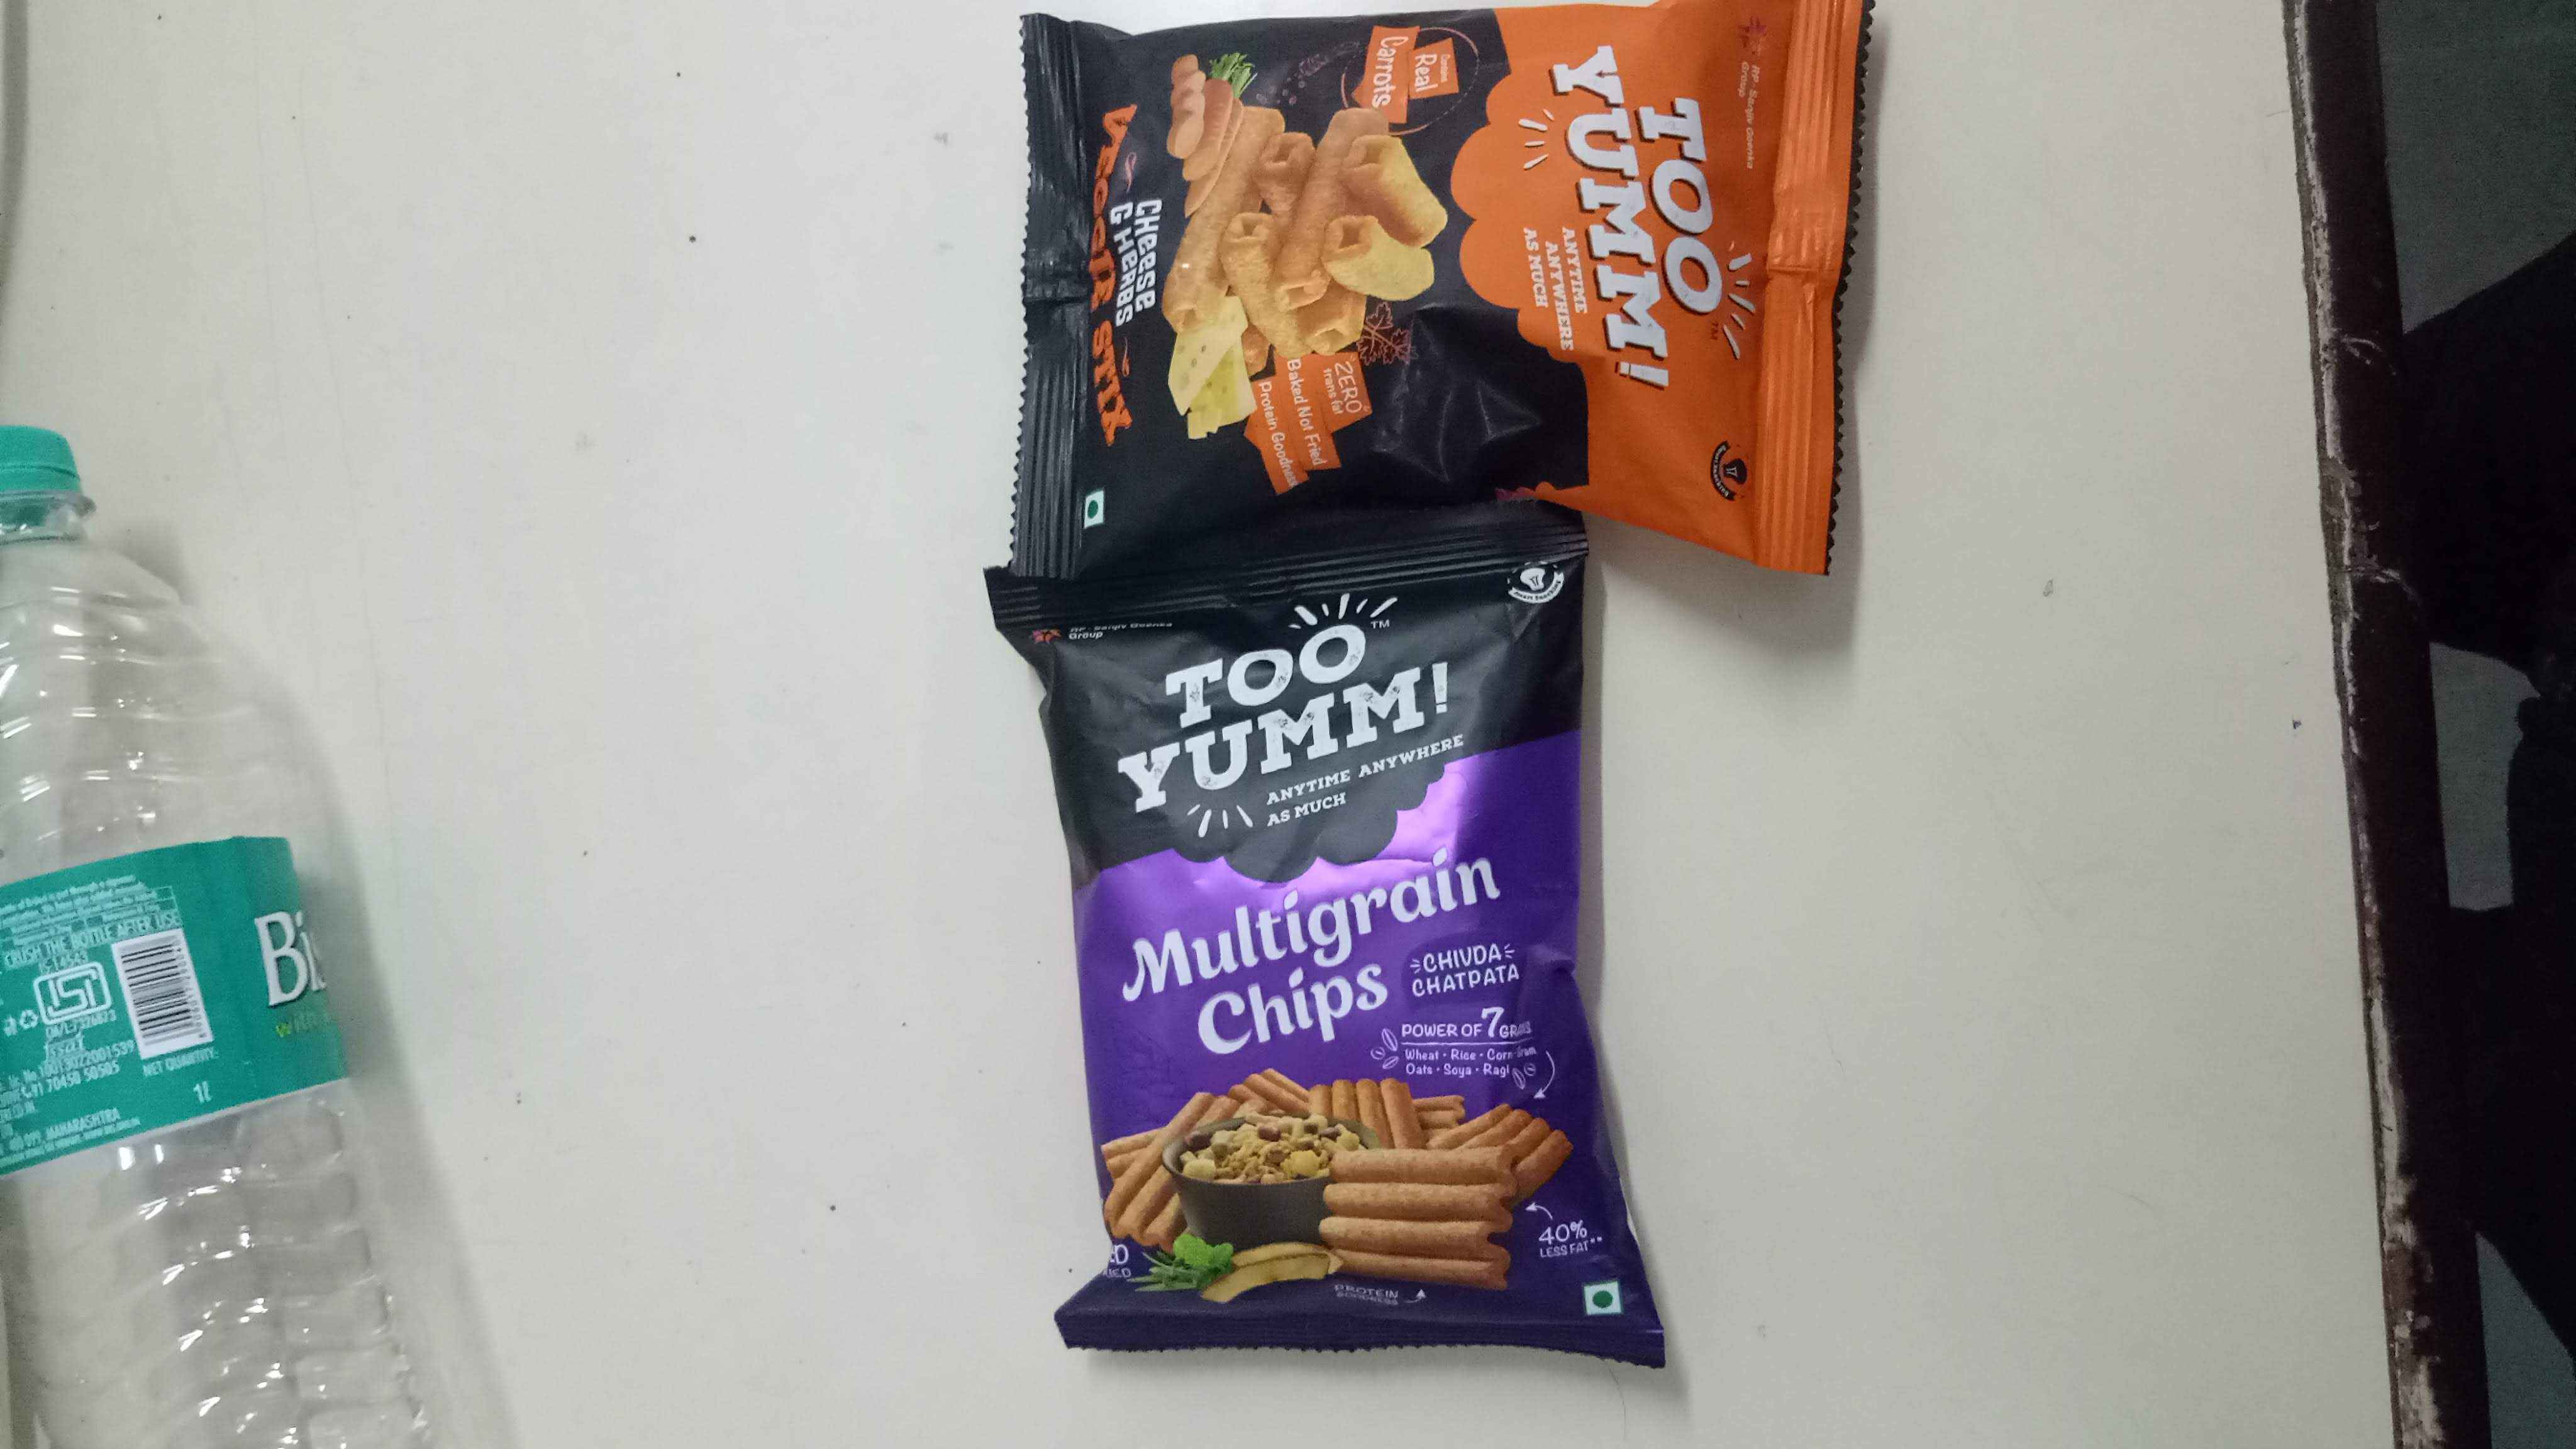Bisleri: (73, 837, 320, 1118)
tooyumm: (1546, 12, 1759, 426), (1118, 596, 1444, 828)
